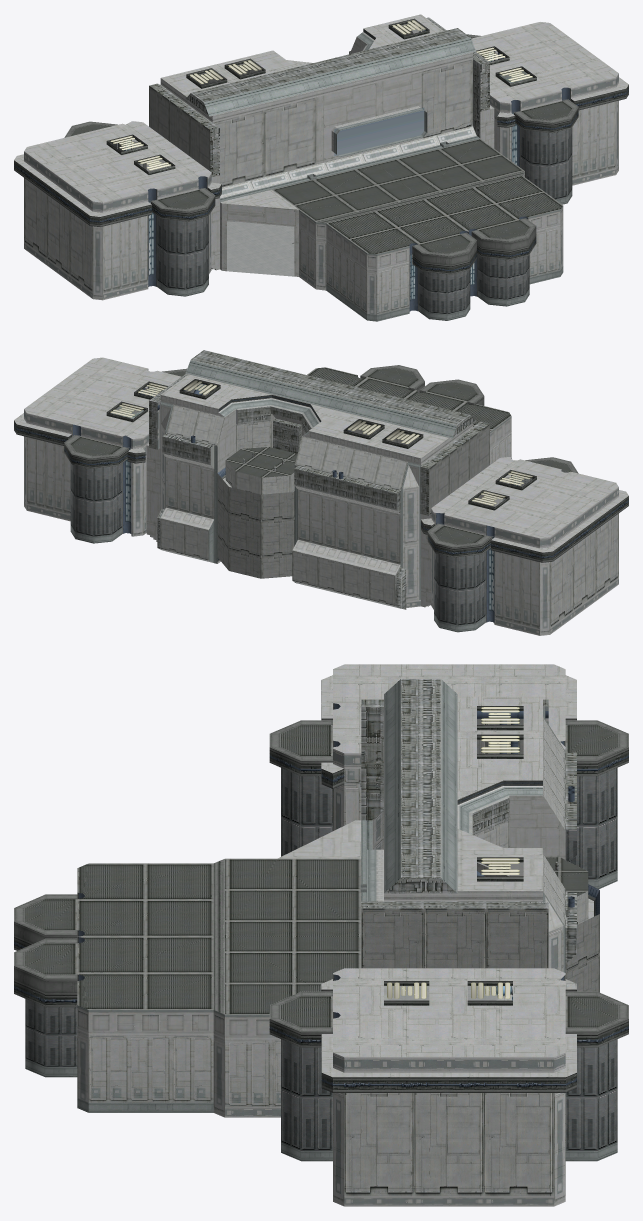
The model's file is mun_tato_cloning_s01_r4_spawn_mesh_r4.fbx.
3 views of the same model, one above another, from view 1: azimuth 30°, elevation 25°; view 2: azimuth 150°, elevation 25°; view 3: azimuth 270°, elevation 25° (orthographic). The views are drawn at different scales.
Visible parts, largest first — view 1: mesh_node; view 2: mesh_node; view 3: mesh_node.
Boxes of the visible parts, x1,y1,x2,y2 form: mesh_node: (14, 14, 628, 321); mesh_node: (14, 350, 628, 635); mesh_node: (14, 664, 628, 1206).
Size of the model in its own units: 41.9 by 11.8 by 27.07.
